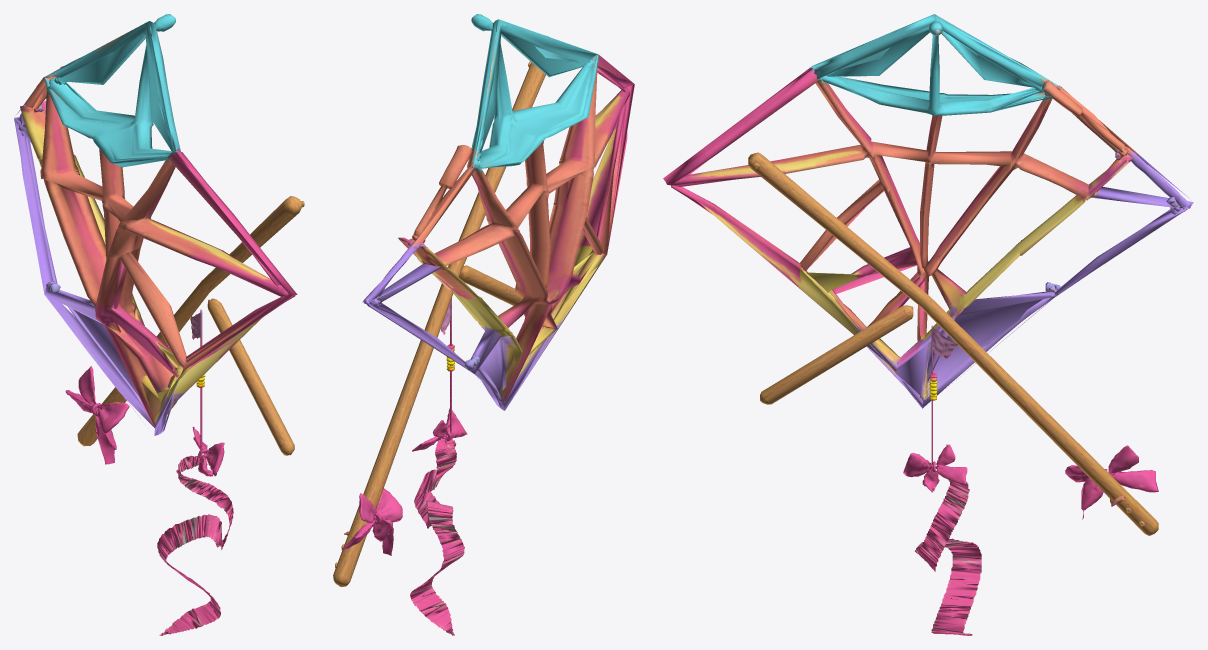
The model's file is r33-kite.glb.
3 renders of one model, left to right at view 1: azimuth 30°, elevation 25°; view 2: azimuth 150°, elevation 25°; view 3: azimuth 270°, elevation 25°, orthographic. The views are drawn at different scales.
Visible parts, largest first — view 1: tripo_node_90e90df7-2a0d-4747-9504-310125347543; view 2: tripo_node_90e90df7-2a0d-4747-9504-310125347543; view 3: tripo_node_90e90df7-2a0d-4747-9504-310125347543.
Boxes of the visible parts, x1,y1,x2,y2 form: tripo_node_90e90df7-2a0d-4747-9504-310125347543: (14, 14, 304, 635); tripo_node_90e90df7-2a0d-4747-9504-310125347543: (333, 14, 634, 635); tripo_node_90e90df7-2a0d-4747-9504-310125347543: (663, 14, 1193, 635).
Bounding box in the file's own units: 0.248 × 0.998 × 0.791.
Materials: 1 (1 with a texture image).
